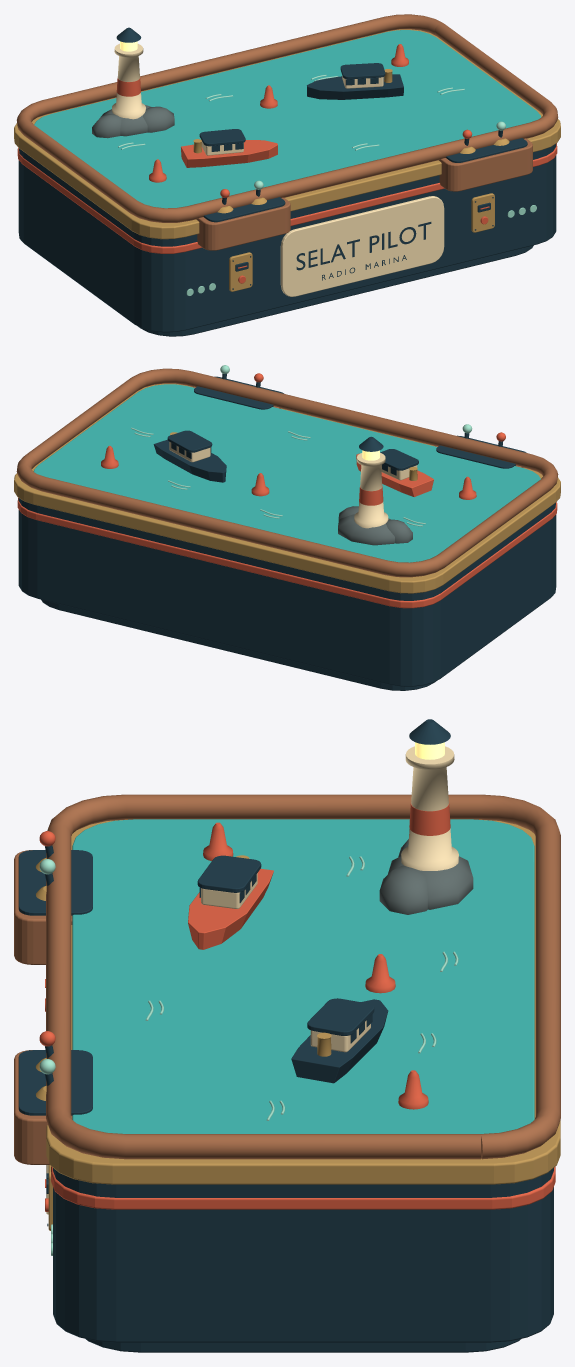
The picture shows the model from 3 angles, top to bottom: view 1: azimuth 30°, elevation 25°; view 2: azimuth 150°, elevation 25°; view 3: azimuth 270°, elevation 25°; orthographic projection. The views are drawn at different scales.
Parts seen in each view (by area): view 1: Selat Pilot - Harbour, Selat Pilot - Structure, Selat Pilot - Graphics, Selat Pilot - Harbour launches, Selat Pilot - Controls; view 2: Selat Pilot - Structure, Selat Pilot - Harbour, Selat Pilot - Harbour launches, Selat Pilot - Controls; view 3: Selat Pilot - Harbour, Selat Pilot - Structure, Selat Pilot - Harbour launches, Selat Pilot - Controls.
Part boxes in pixels (<box>): Selat Pilot - Harbour: <box>16,14,558,222</box>; Selat Pilot - Structure: <box>14,29,560,336</box>; Selat Pilot - Graphics: <box>186,193,536,296</box>; Selat Pilot - Harbour launches: <box>181,63,403,167</box>; Selat Pilot - Controls: <box>217,121,509,213</box>; Selat Pilot - Structure: <box>14,376,560,690</box>; Selat Pilot - Harbour: <box>16,368,558,577</box>; Selat Pilot - Harbour launches: <box>153,430,433,496</box>; Selat Pilot - Controls: <box>220,365,505,446</box>; Selat Pilot - Harbour: <box>46,719,560,1159</box>; Selat Pilot - Structure: <box>14,819,560,1352</box>; Selat Pilot - Harbour launches: <box>188,855,388,1083</box>; Selat Pilot - Controls: <box>36,831,55,1100</box>.
Size of the model in its own units: 3.01 by 1.49 by 1.99.
